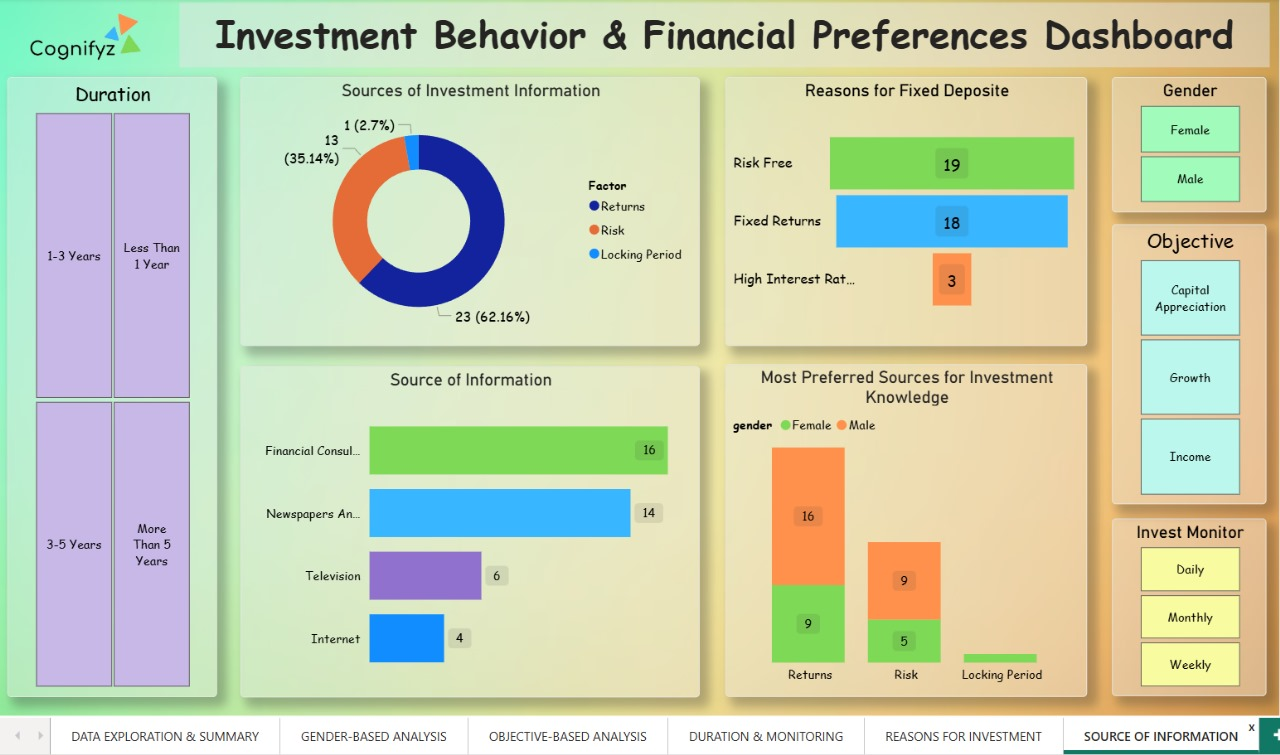

Layout of this report page (visuals, bound fields, positions):
{"tool":"powerbi","page":{"name":"SOURCE OF INFORMATION","canvas":[1280,720],"ordinal":5},"visuals":[{"type":"textbox","box":[179.7,3.7,1090.7,64.8],"z":0},{"type":"image","box":[7.3,8.6,156.5,59.9],"z":1000},{"type":"slicer","title":"Gender","fields":{"Values":["Data.gender"]},"box":[1111.6,79.1,154.7,134.9],"z":2000},{"type":"slicer","title":"Duration","fields":{"Values":["Data.Duration"]},"box":[7,79.1,209.3,619.8],"z":3000},{"type":"slicer","title":"Invest Monitor","fields":{"Values":["Data.Invest_Monitor"]},"box":[1111.6,519.8,154.7,177.9],"z":4000},{"type":"slicer","title":"Objective","fields":{"Values":["Data.Objective"]},"box":[1111.6,225.6,154.7,280.2],"z":5000},{"type":"donutChart","title":"Sources of Investment Information","fields":{"Category":["Data.Factor"],"Y":["CountNonNull(Data.Factor)"]},"box":[240.7,79.1,459.3,268.6],"z":6000},{"type":"columnChart","title":"Most Preferred Sources for Investment Knowledge","fields":{"Category":["Data.Factor"],"Y":["CountNonNull(Data.Factor)"],"Series":["Data.gender"]},"box":[725.6,366.3,361.6,332.6],"z":7000},{"type":"funnel","title":"Reasons for Fixed Deposite","fields":{"Category":["Data.Reason_FD"],"Y":["CountNonNull(Data.Reason_FD)"]},"box":[725.6,79.1,361.6,268.6],"z":8000},{"type":"barChart","title":"Source of Information","fields":{"Category":["Data.Source"],"Y":["CountNonNull(Data.Source)"]},"box":[240.7,367.4,459.3,331.4],"z":9000}]}

Visuals, with their boxes on the page's 1280x720 design canvas (x1, y1, x2, y2). These are canvas units, not pixel positions in the 1280x755 screenshot, which may show the page scaled, cropped or inside an application window:
textbox: <region>180, 4, 1270, 68</region>
image: <region>7, 9, 164, 68</region>
"Gender" slicer: <region>1112, 79, 1266, 214</region>
"Duration" slicer: <region>7, 79, 216, 699</region>
"Invest Monitor" slicer: <region>1112, 520, 1266, 698</region>
"Objective" slicer: <region>1112, 226, 1266, 506</region>
"Sources of Investment Information" donutChart: <region>241, 79, 700, 348</region>
"Most Preferred Sources for Investment Knowledge" columnChart: <region>726, 366, 1087, 699</region>
"Reasons for Fixed Deposite" funnel: <region>726, 79, 1087, 348</region>
"Source of Information" barChart: <region>241, 367, 700, 699</region>
